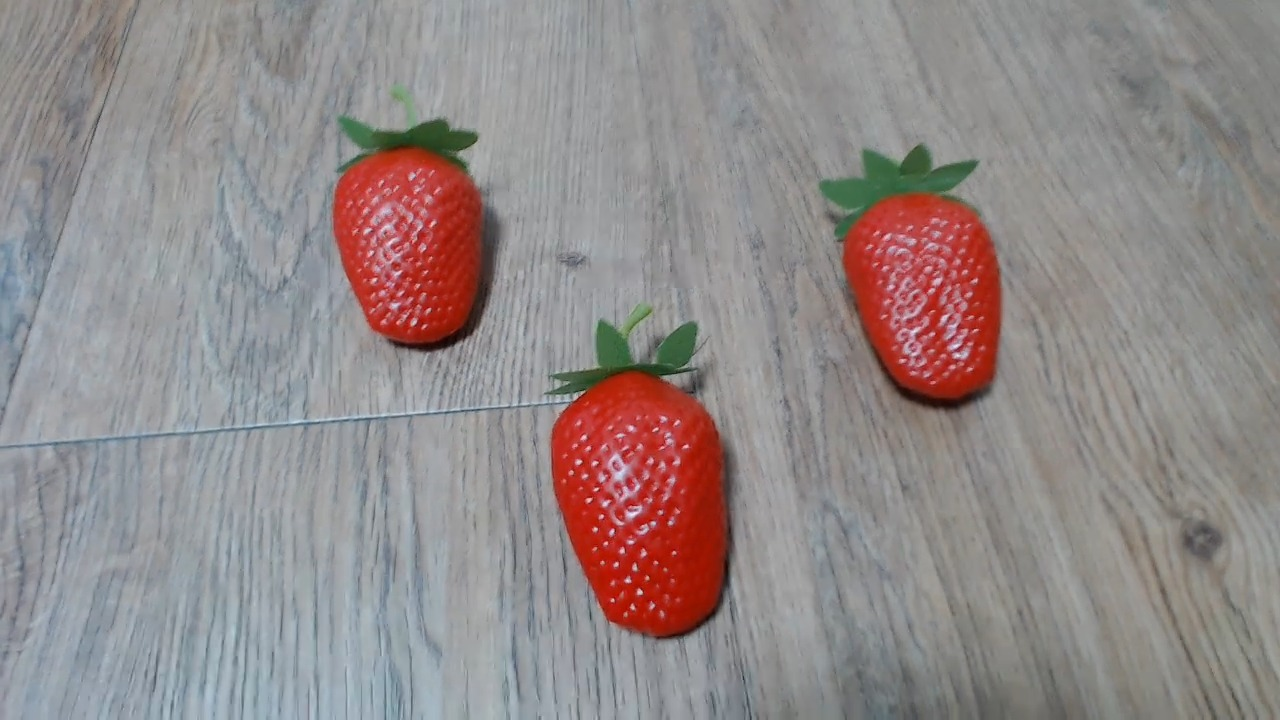strawberry: (541, 359, 766, 647), (821, 161, 1023, 410), (317, 117, 497, 354)
